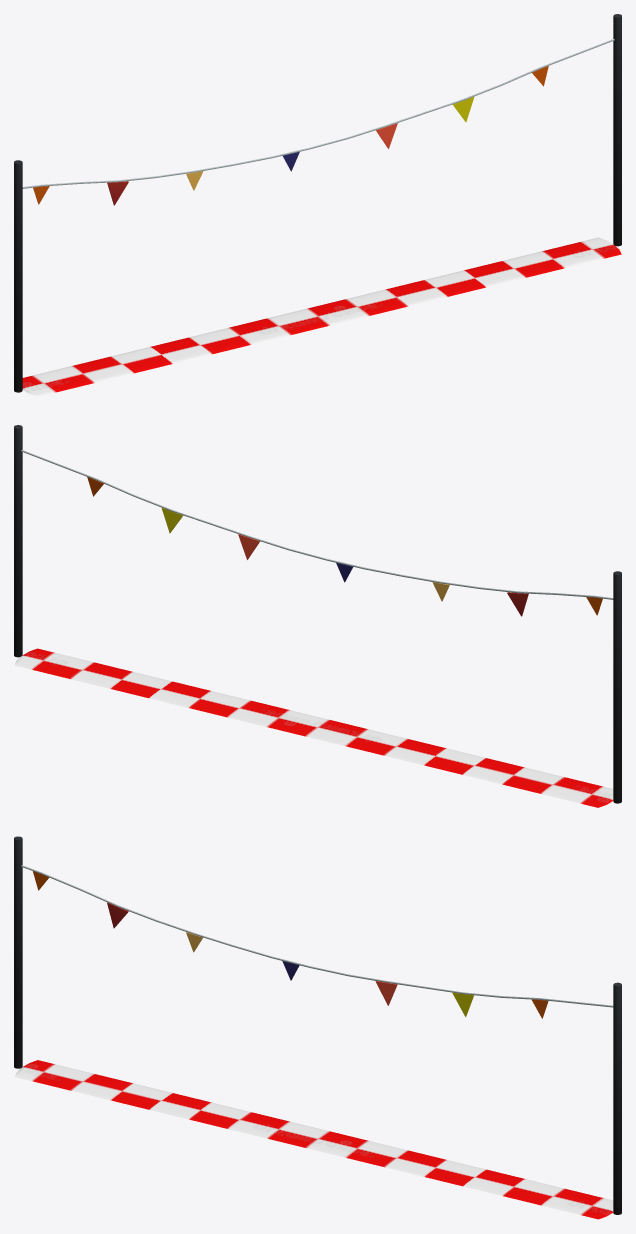
The model's file is Race_point.fbx.
3 views of the same model, one above another, from view 1: azimuth 30°, elevation 25°; view 2: azimuth 150°, elevation 25°; view 3: azimuth 330°, elevation 25° (orthographic).
Visible parts, largest first — view 1: Race, Poles, Poles1, Rope; view 2: Race, Poles, Poles1, Rope; view 3: Race, Poles, Poles1, Rope.
Boxes of the visible parts, <box> form: Race: <box>22,237,621,396</box>; Poles: <box>14,160,22,392</box>; Poles1: <box>613,14,621,246</box>; Rope: <box>22,39,614,188</box>; Race: <box>14,648,613,807</box>; Poles: <box>613,571,621,803</box>; Poles1: <box>14,425,22,657</box>; Rope: <box>21,450,613,599</box>; Race: <box>15,1060,613,1219</box>; Poles: <box>14,836,22,1068</box>; Poles1: <box>613,982,621,1214</box>; Rope: <box>21,865,613,1007</box>.
Bounding box in the file's own units: 1725 × 114 × 621.
Materials: 2 (2 with a texture image).
